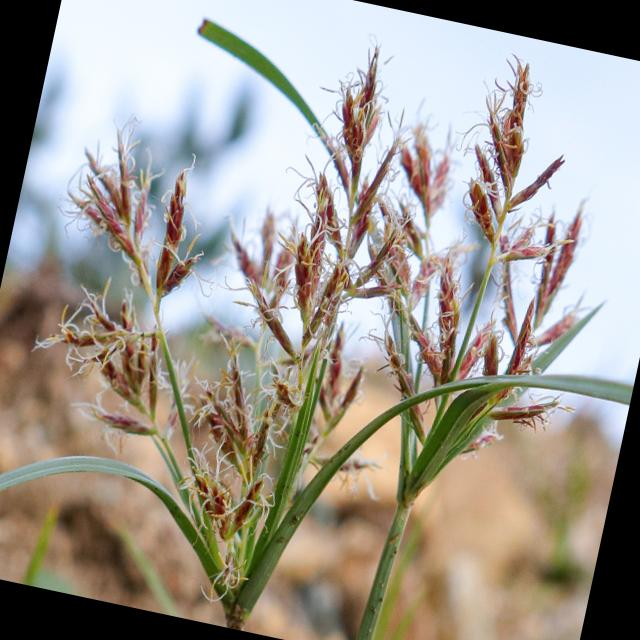cyperus: (152, 31, 430, 566), (12, 102, 230, 444), (404, 56, 571, 396), (464, 174, 614, 447), (342, 104, 488, 365), (194, 185, 313, 376), (292, 331, 378, 486)
